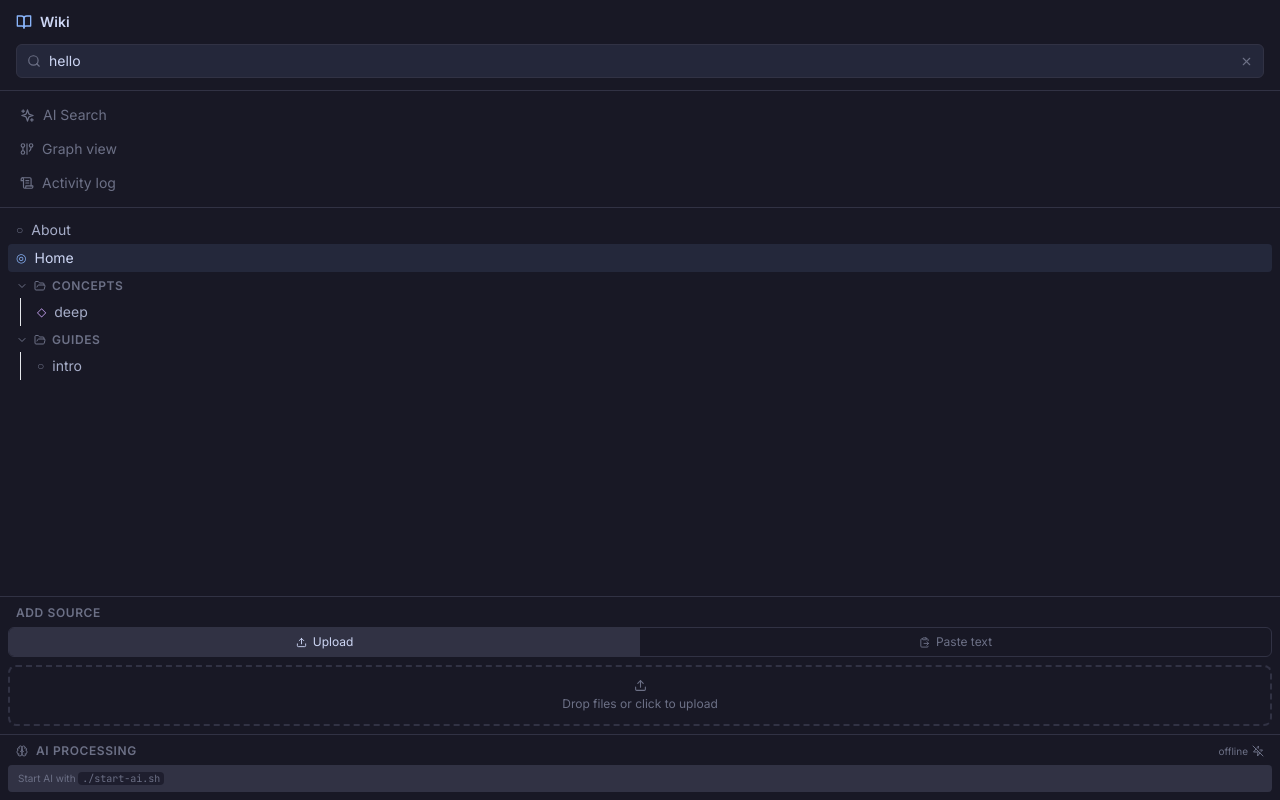
Sidebar — search › shows results dropdown when query is active
Click the field with placeholder "Search…": {"x": 640, "y": 61} [49, 51, 1232, 71]
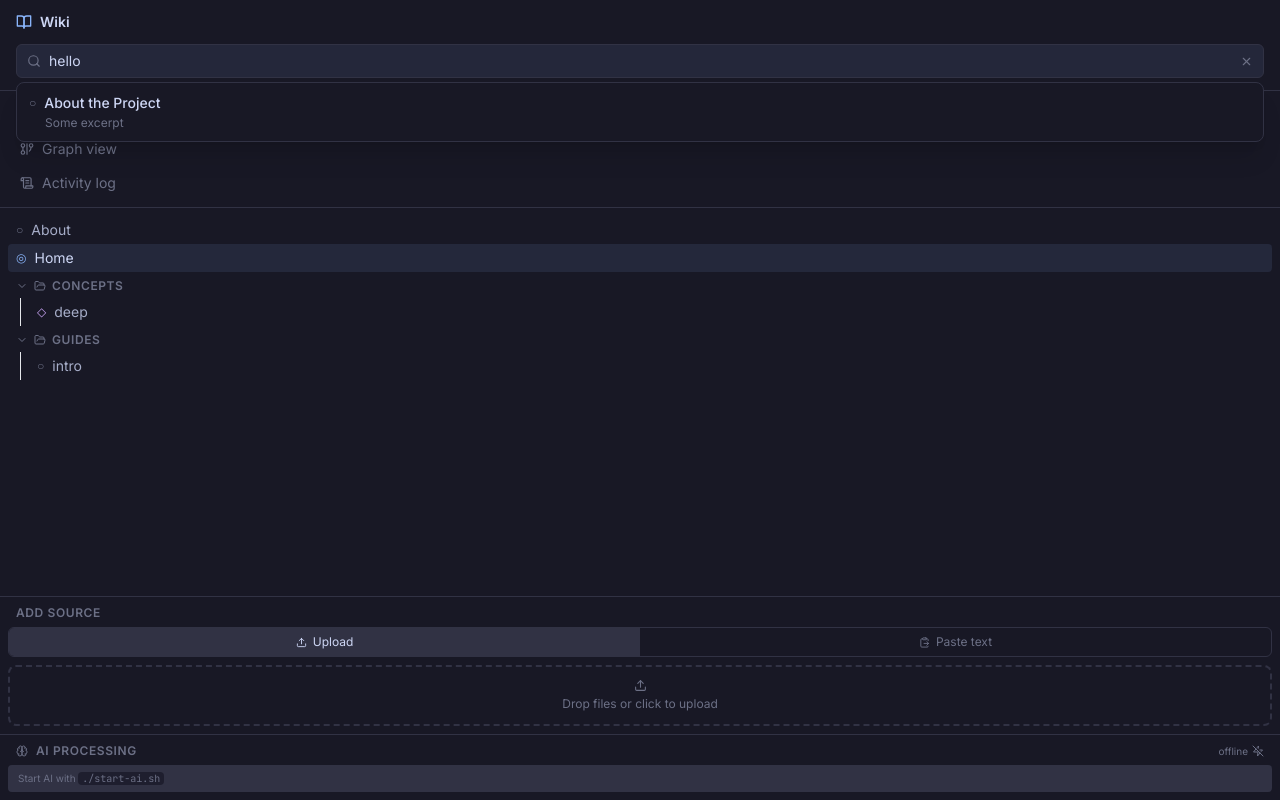
Check: the text "About the Project" is shown, box [44, 93, 161, 113]
